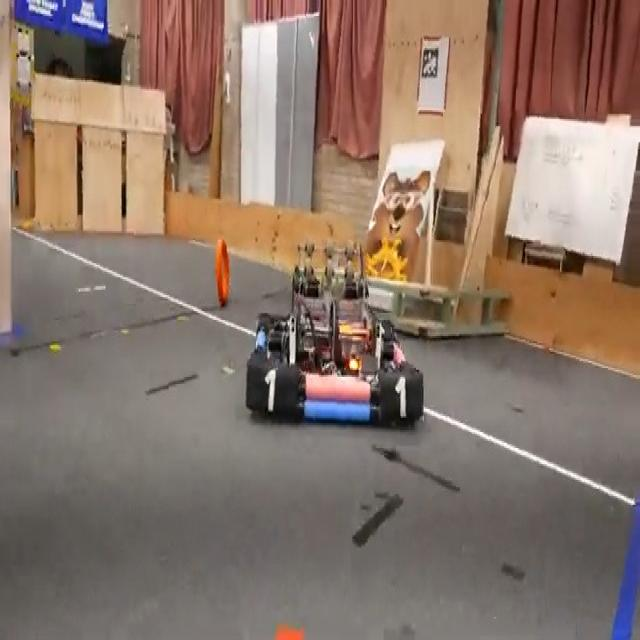note: (213, 237, 232, 311)
